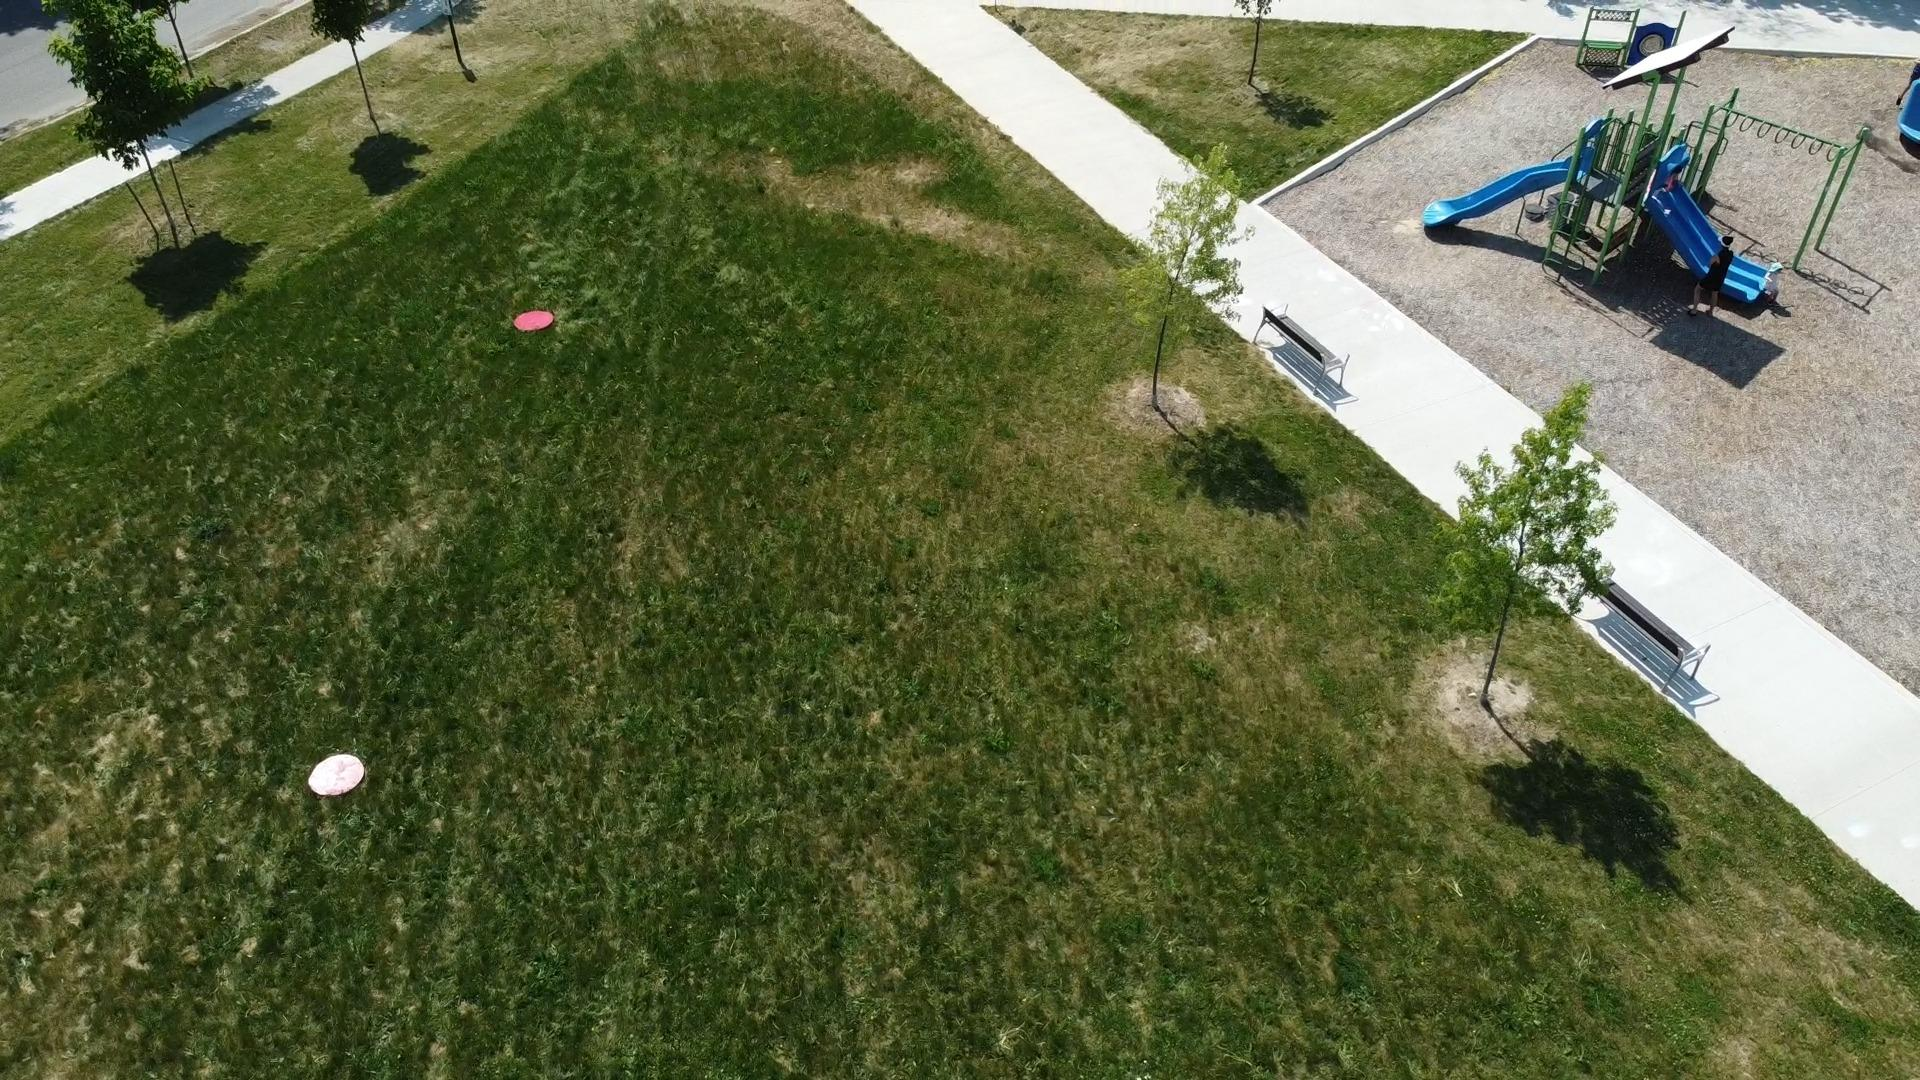Red: (510, 307, 555, 334)
Unknown: (306, 752, 367, 798)
